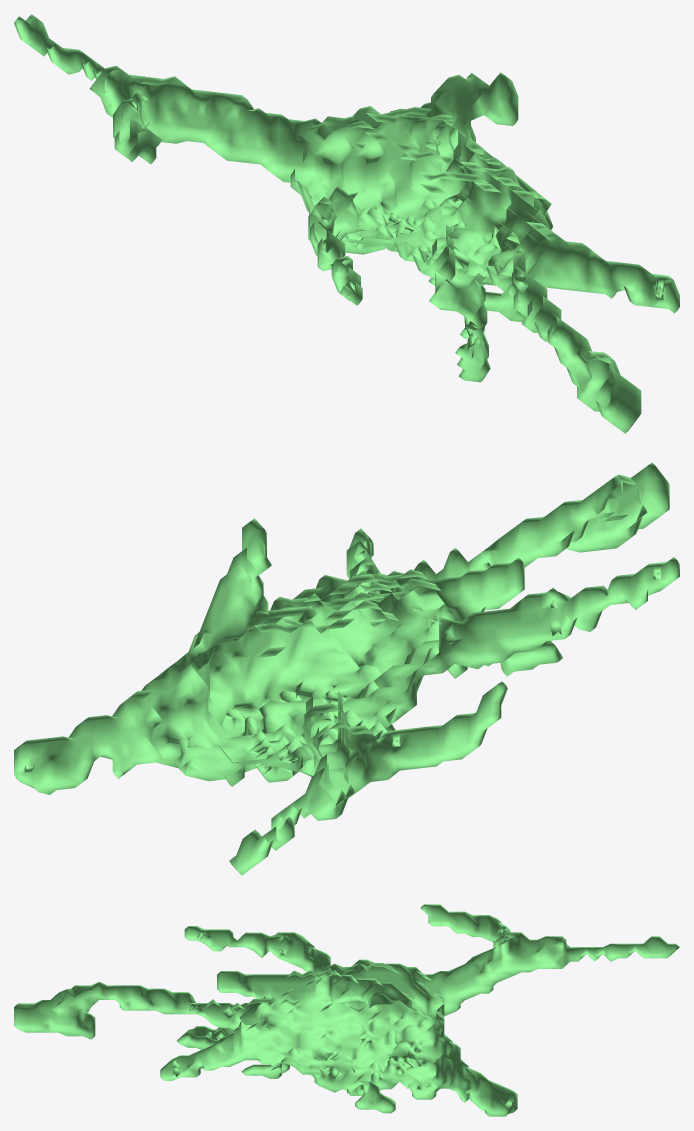
The model's file is osteocyte_2.glb.
3 renders of one model, top to bottom at view 1: azimuth 30°, elevation 25°; view 2: azimuth 150°, elevation 25°; view 3: azimuth 270°, elevation 25°, orthographic. The views are drawn at different scales.
Parts seen in each view (by area): view 1: osteocyte_2; view 2: osteocyte_2; view 3: osteocyte_2.
Boxes of the visible parts, box(x1,y1,x2,y2) form: osteocyte_2: box(14, 14, 679, 433); osteocyte_2: box(14, 462, 679, 875); osteocyte_2: box(14, 904, 679, 1116).
Size of the model in its own units: 17.33 by 7.7 by 39.48.
